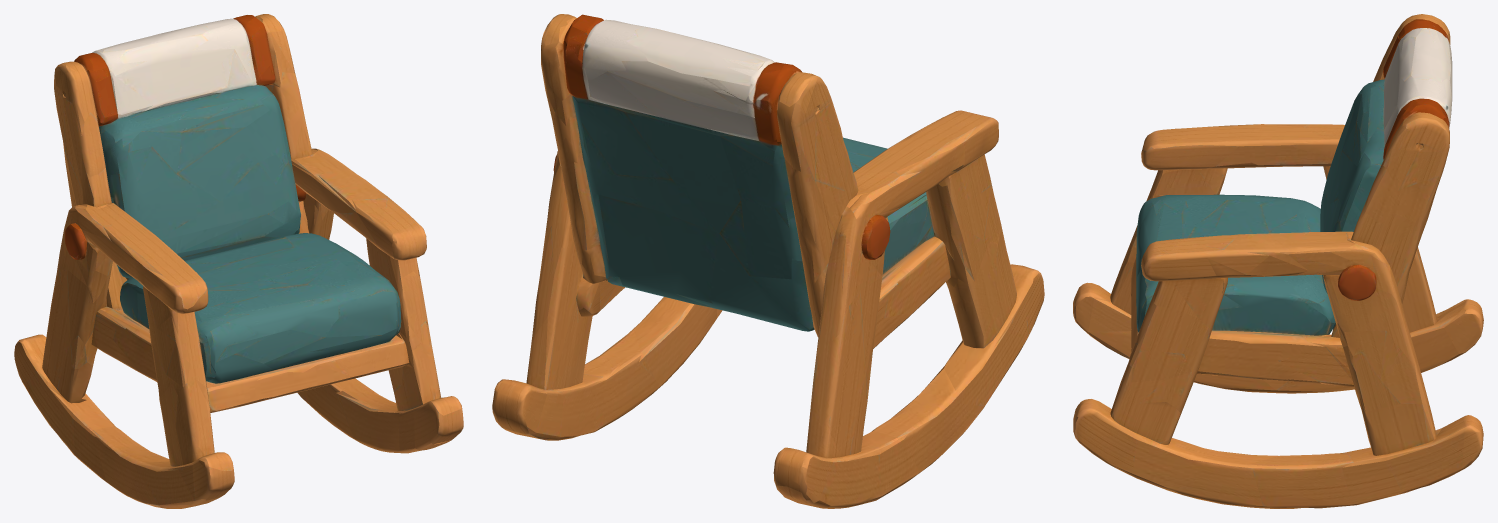
File: rockingChair.glb
3 views of the same model, side by side, from view 1: azimuth 30°, elevation 25°; view 2: azimuth 150°, elevation 25°; view 3: azimuth 270°, elevation 25° (orthographic). The views are drawn at different scales.
Parts seen in each view (by area): view 1: Mesh_0; view 2: Mesh_0; view 3: Mesh_0.
Boxes of the visible parts, x1,y1,x2,y2 form: Mesh_0: (14, 14, 463, 508); Mesh_0: (492, 14, 1044, 508); Mesh_0: (1073, 14, 1483, 508).
Size of the model in its own units: 0.6084 by 0.8318 by 0.8.
1 material, 1 textured.
